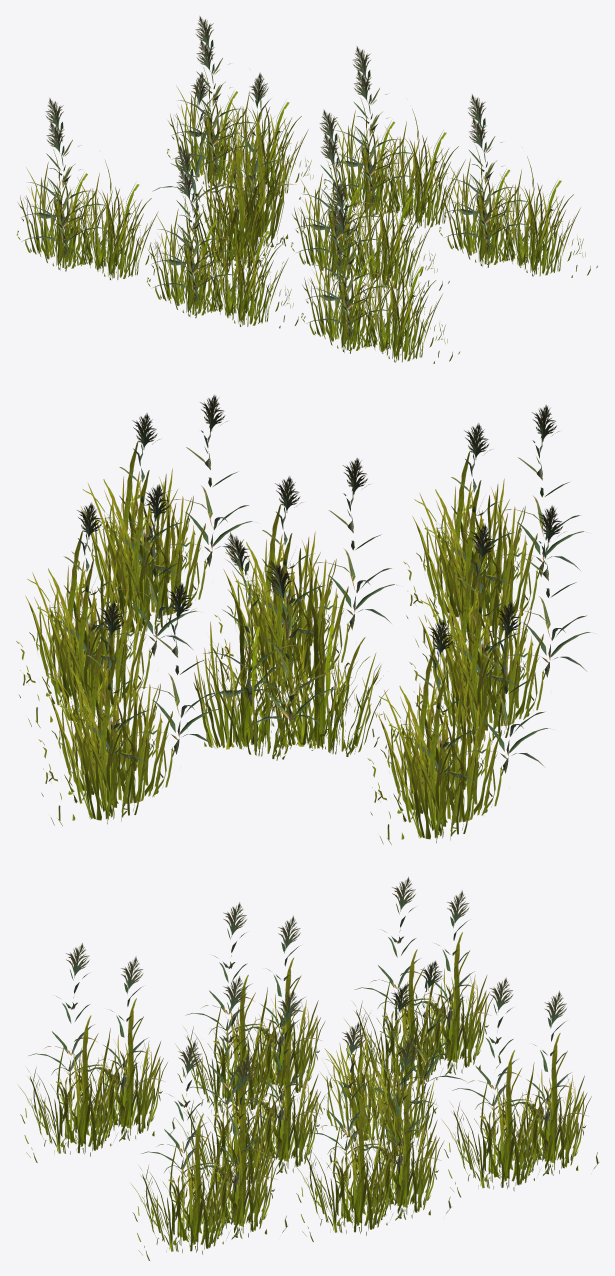
File: grass (2).glb
3 renders of one model, top to bottom at view 1: azimuth 30°, elevation 25°; view 2: azimuth 150°, elevation 25°; view 3: azimuth 270°, elevation 25°, orthographic. The views are drawn at different scales.
Visible parts, largest first — view 1: grass var.001; view 2: grass var.001; view 3: grass var.001.
Part boxes in pixels (x1,y1,x2,y2): grass var.001: [16, 16, 597, 363]; grass var.001: [16, 394, 591, 844]; grass var.001: [18, 876, 599, 1260].
Bounding box in the file's own units: 3.96 × 1.39 × 4.2.
Materials: 4 (4 with a texture image).
